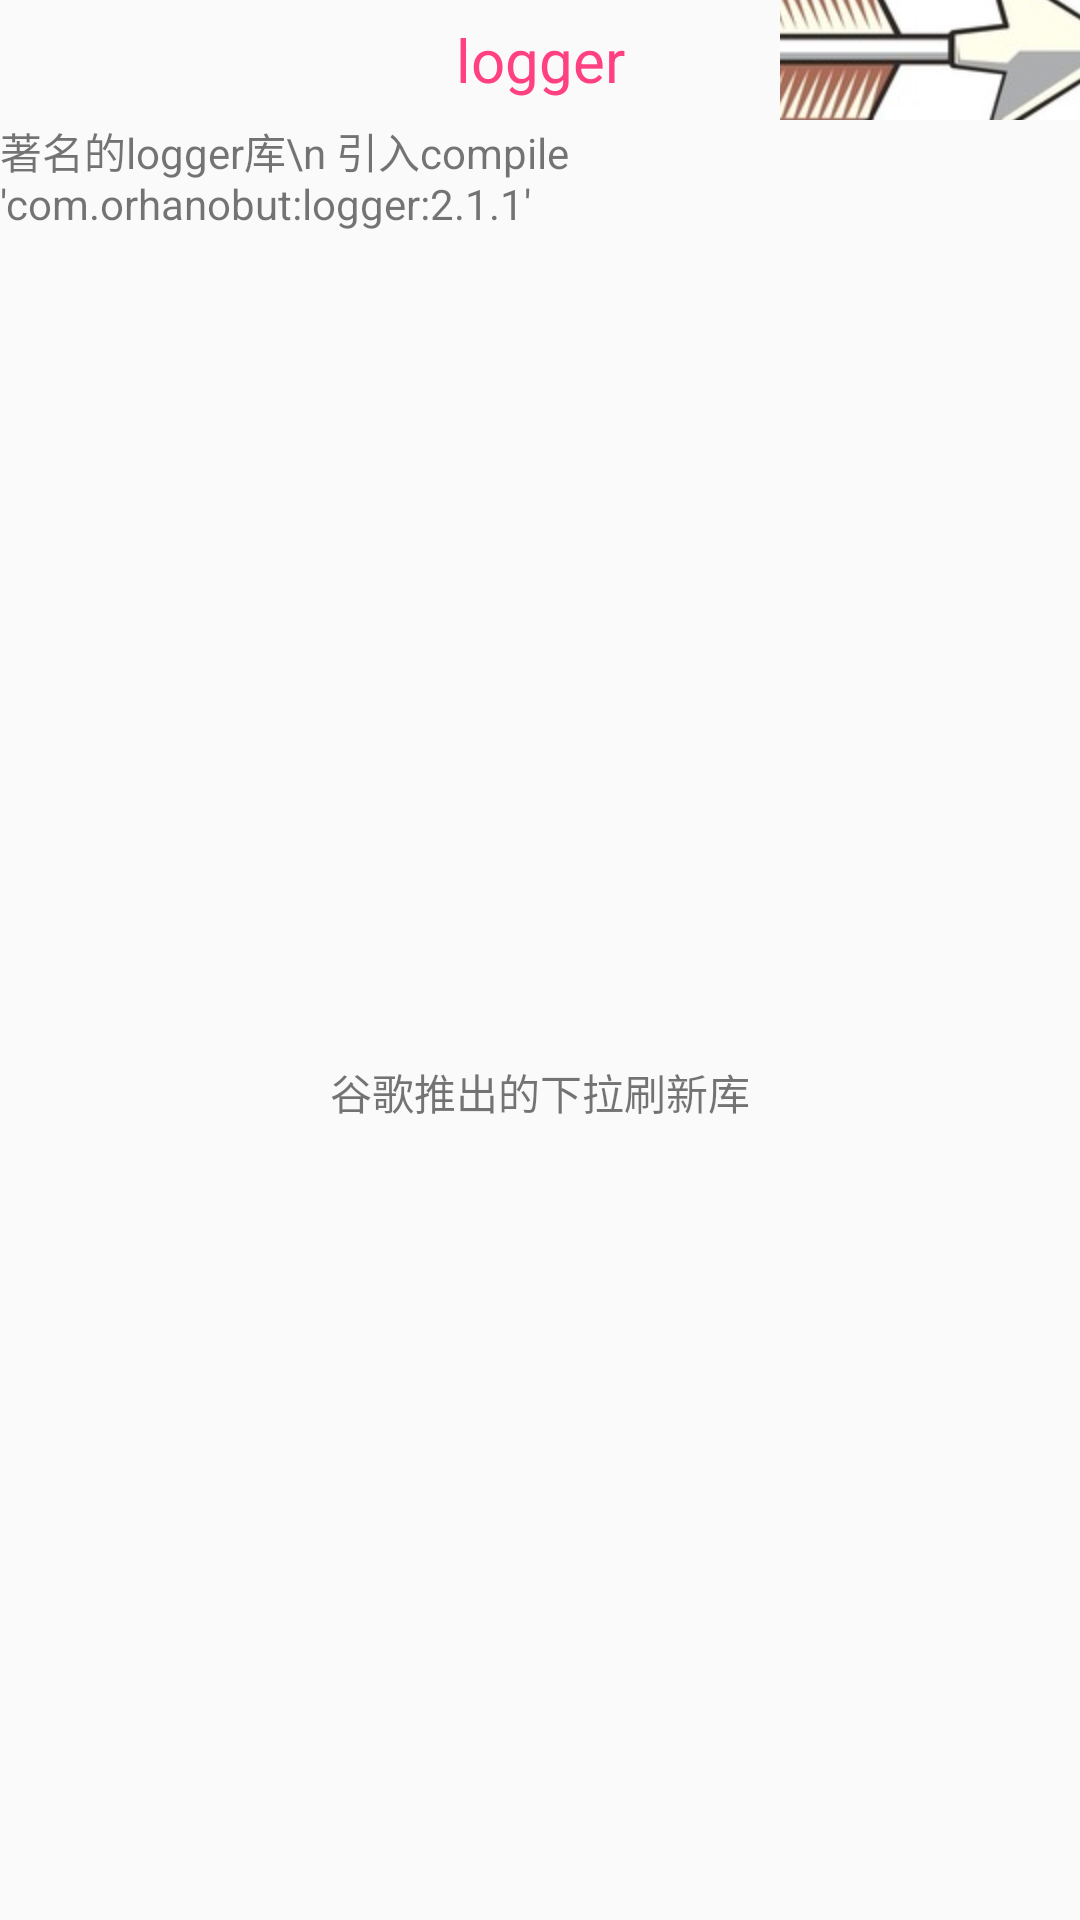

Icon click points for this 1080px x 1920px phone screenshot, format (x=x, y=y):
right: (x=930, y=60)
